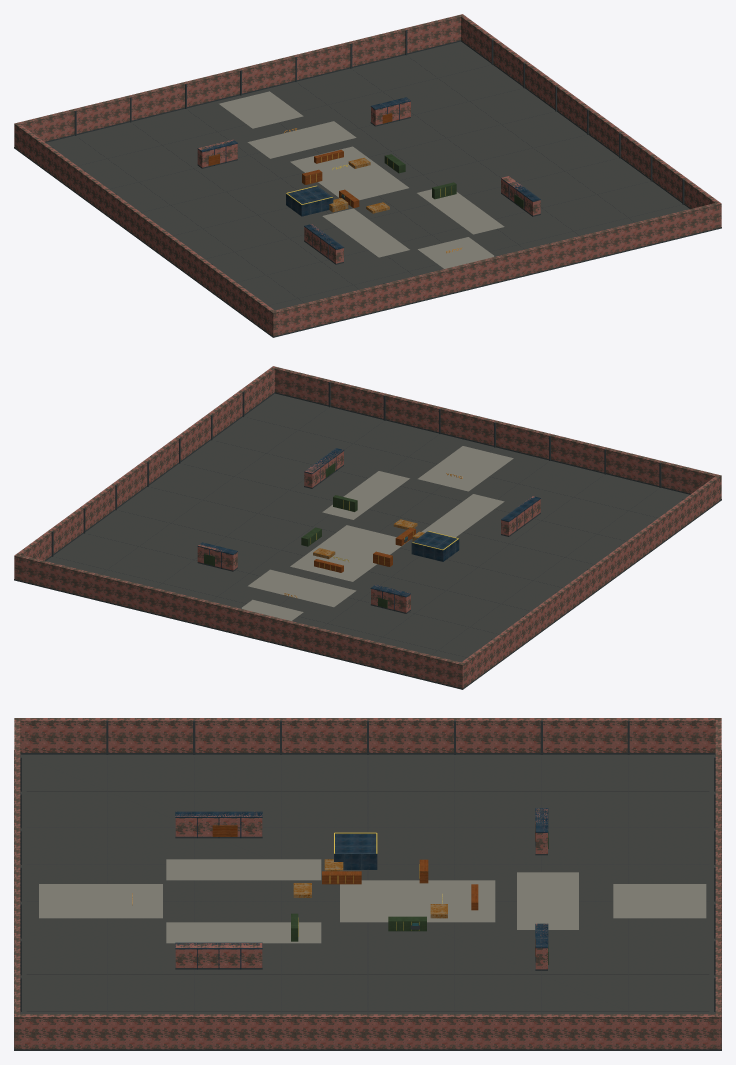
File: gatehouse.glb
3 renders of one model, top to bottom at view 1: azimuth 30°, elevation 25°; view 2: azimuth 150°, elevation 25°; view 3: azimuth 270°, elevation 25°, orthographic. The views are drawn at different scales.
Visible parts, largest first — view 1: GEO-gatehouse-floor, GEO-gatehouse-boundary-south, GEO-gatehouse-boundary-north, GEO-gatehouse-boundary-west, GEO-gatehouse-boundary-east, GEO-gatehouse-floor-wear-checkpoint, GEO-gatehouse-floor-wear-gate, GEO-gatehouse-floor-wear-west-lane, GEO-gatehouse-floor-wear-north-exit, GEO-gatehouse-floor-wear-east-lane, GEO-gatehouse-floor-wear-south-entry, GEO-gatehouse-raised-floor-west-inspection-deck (+6 smaller); view 2: GEO-gatehouse-floor, GEO-gatehouse-boundary-north, GEO-gatehouse-boundary-south, GEO-gatehouse-boundary-west, GEO-gatehouse-boundary-east, GEO-gatehouse-floor-wear-checkpoint, GEO-gatehouse-floor-wear-south-entry, GEO-gatehouse-floor-wear-gate, GEO-gatehouse-floor-wear-west-lane, GEO-gatehouse-floor-wear-east-lane, GEO-gatehouse-raised-floor-west-inspection-deck, GEO-gatehouse-boundary-base-north (+6 smaller); view 3: GEO-gatehouse-floor, GEO-gatehouse-boundary-east, GEO-gatehouse-boundary-west, GEO-gatehouse-floor-wear-checkpoint, GEO-gatehouse-floor-wear-south-entry, GEO-gatehouse-floor-wear-gate, GEO-gatehouse-floor-wear-west-lane, GEO-gatehouse-floor-wear-north-exit, GEO-gatehouse-floor-wear-east-lane, GEO-gatehouse-boundary-north, GEO-gatehouse-boundary-south, GEO-gatehouse-wall-north-east-security (+11 smaller).
Part boxes in pixels (left/top/right/bottom): GEO-gatehouse-floor: left=46, top=41, right=689, bottom=310; GEO-gatehouse-boundary-south: left=271, top=203, right=721, bottom=336; GEO-gatehouse-boundary-north: left=14, top=15, right=460, bottom=147; GEO-gatehouse-boundary-west: left=14, top=123, right=276, bottom=336; GEO-gatehouse-boundary-east: left=459, top=14, right=721, bottom=227; GEO-gatehouse-floor-wear-checkpoint: left=290, top=146, right=408, bottom=200; GEO-gatehouse-floor-wear-gate: left=247, top=121, right=356, bottom=158; GEO-gatehouse-floor-wear-west-lane: left=322, top=208, right=409, bottom=257; GEO-gatehouse-floor-wear-north-exit: left=219, top=91, right=303, bottom=128; GEO-gatehouse-floor-wear-east-lane: left=417, top=189, right=504, bottom=234; GEO-gatehouse-floor-wear-south-entry: left=418, top=237, right=494, bottom=268; GEO-gatehouse-raised-floor-west-inspection-deck: left=286, top=186, right=333, bottom=216; GEO-gatehouse-floor: left=46, top=393, right=689, bottom=662; GEO-gatehouse-boundary-north: left=14, top=555, right=464, bottom=688; GEO-gatehouse-boundary-south: left=273, top=366, right=721, bottom=496; GEO-gatehouse-boundary-west: left=459, top=474, right=721, bottom=688; GEO-gatehouse-boundary-east: left=14, top=366, right=276, bottom=579; GEO-gatehouse-floor-wear-checkpoint: left=290, top=525, right=409, bottom=581; GEO-gatehouse-floor-wear-south-entry: left=417, top=446, right=513, bottom=491; GEO-gatehouse-floor-wear-gate: left=248, top=569, right=356, bottom=607; GEO-gatehouse-floor-wear-west-lane: left=421, top=494, right=504, bottom=537; GEO-gatehouse-floor-wear-east-lane: left=322, top=471, right=409, bottom=519; GEO-gatehouse-raised-floor-west-inspection-deck: left=411, top=531, right=459, bottom=561; GEO-gatehouse-boundary-base-north: left=14, top=579, right=465, bottom=689; GEO-gatehouse-floor: left=20, top=754, right=715, bottom=1014; GEO-gatehouse-boundary-east: left=14, top=1014, right=721, bottom=1049; GEO-gatehouse-boundary-west: left=15, top=718, right=720, bottom=752; GEO-gatehouse-floor-wear-checkpoint: left=340, top=880, right=495, bottom=922; GEO-gatehouse-floor-wear-south-entry: left=39, top=884, right=162, bottom=918; GEO-gatehouse-floor-wear-gate: left=517, top=872, right=578, bottom=929; GEO-gatehouse-floor-wear-west-lane: left=166, top=859, right=321, bottom=880; GEO-gatehouse-floor-wear-north-exit: left=613, top=884, right=706, bottom=918; GEO-gatehouse-floor-wear-east-lane: left=166, top=922, right=321, bottom=943; GEO-gatehouse-boundary-north: left=715, top=718, right=721, bottom=1048; GEO-gatehouse-boundary-south: left=14, top=718, right=20, bottom=1049; GEO-gatehouse-wall-north-east-security: left=175, top=943, right=262, bottom=967.
Bounding box in the file's own units: 114 × 6.39 × 114.
12 materials, 6 textured.
